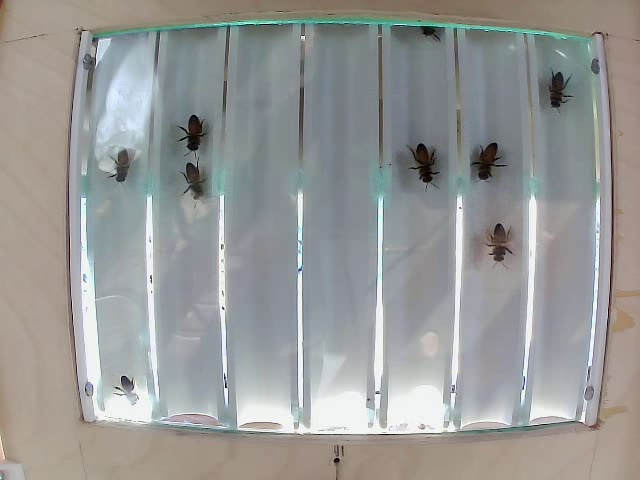bee: (471, 134, 495, 194), (405, 140, 432, 186), (541, 76, 569, 116), (104, 152, 135, 188), (175, 165, 203, 203), (174, 122, 209, 152), (419, 24, 448, 52), (491, 241, 516, 271)
